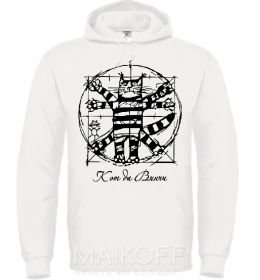cat: (111, 69, 151, 103)
